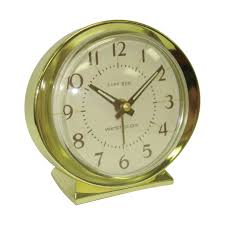alarm_clock: (23, 19, 201, 203), (23, 27, 201, 203), (34, 27, 201, 203)
